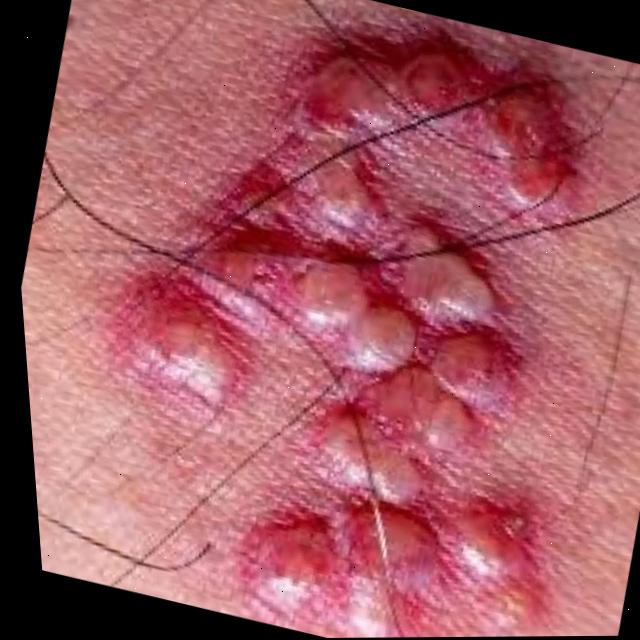Shingles: (91, 19, 640, 639)
